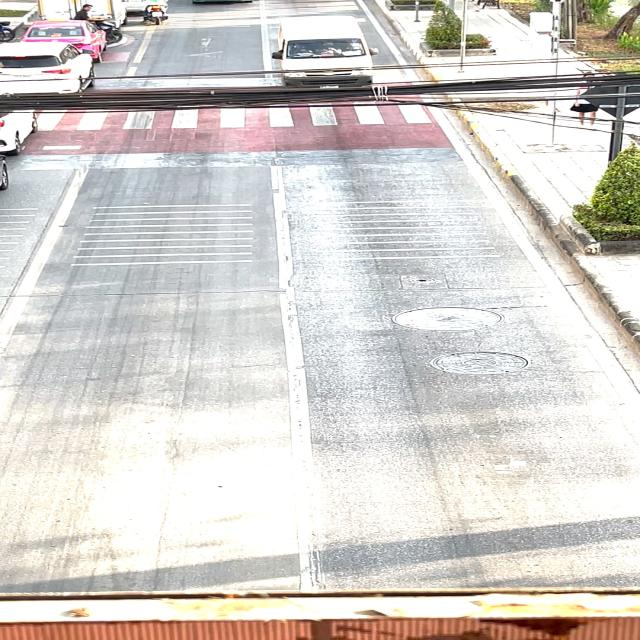car: (260, 12, 381, 89)
